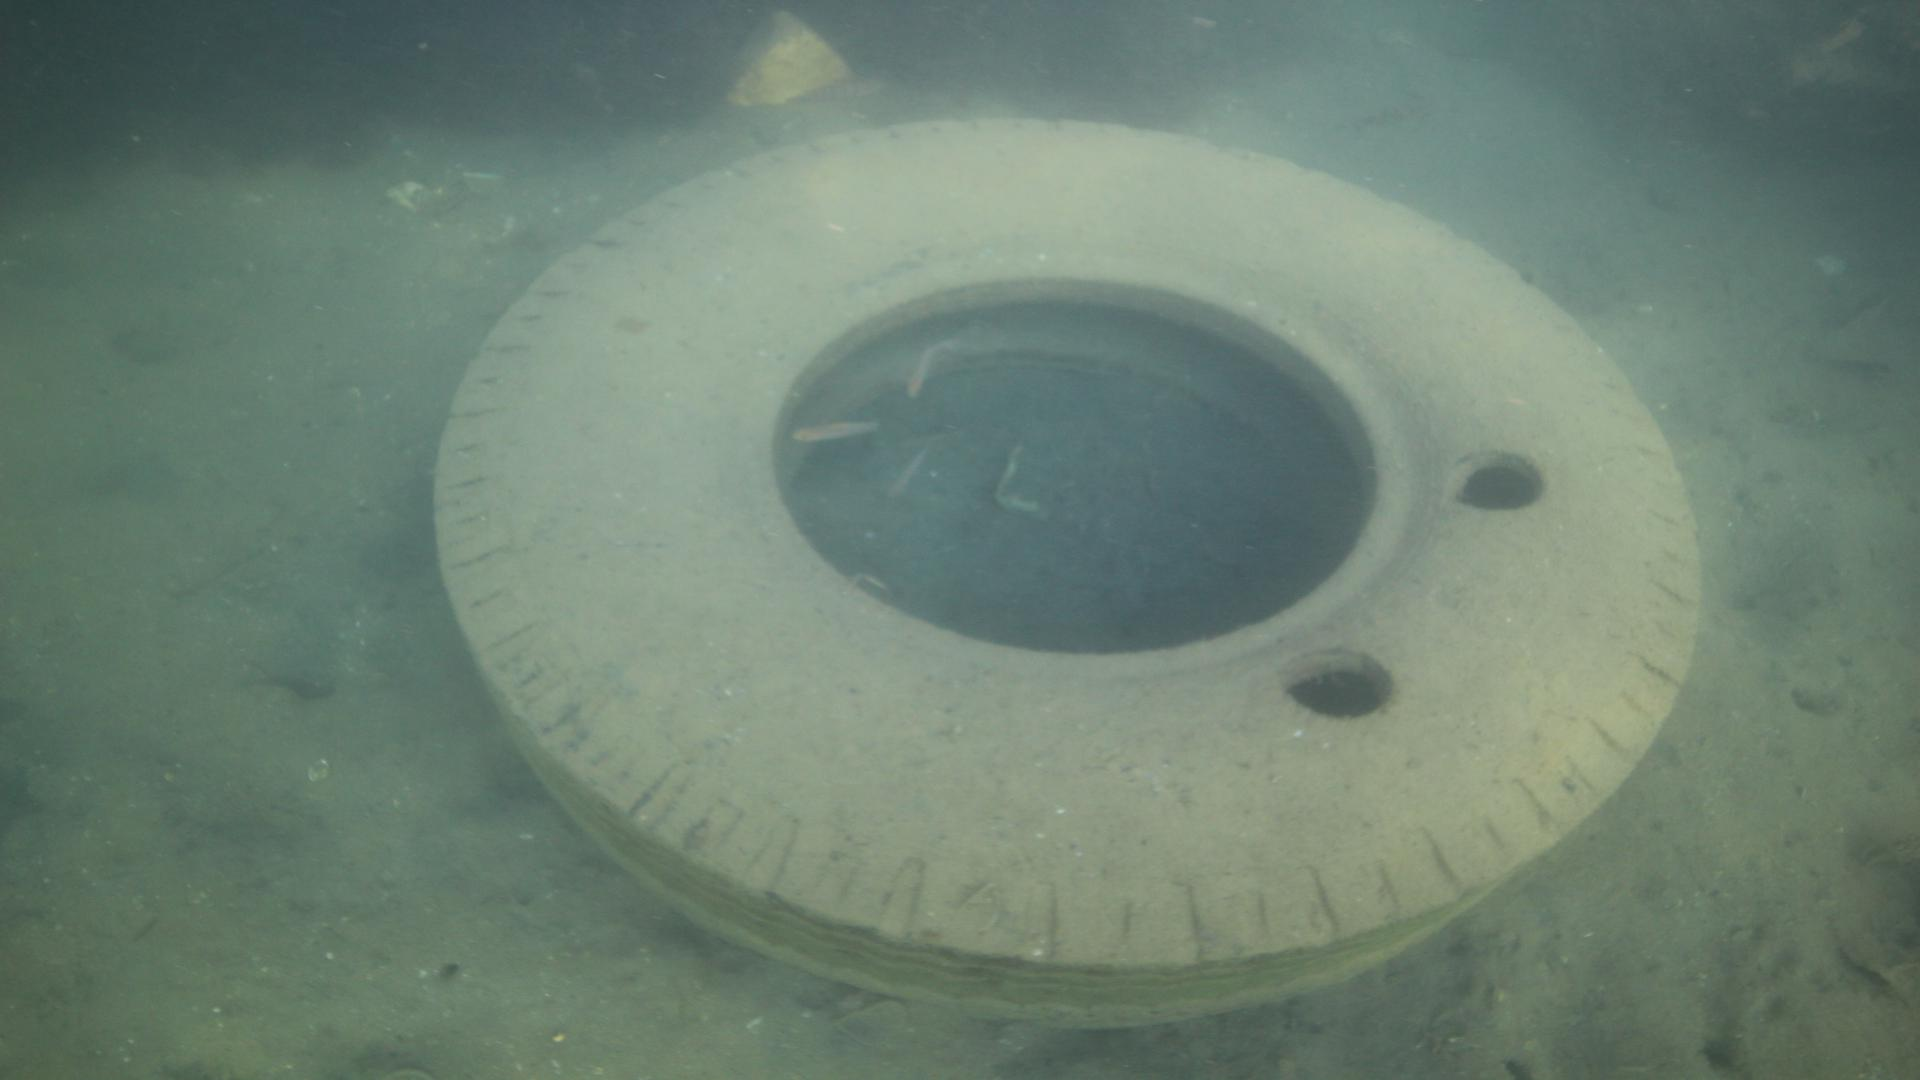tire: (433, 116, 1702, 1036)
